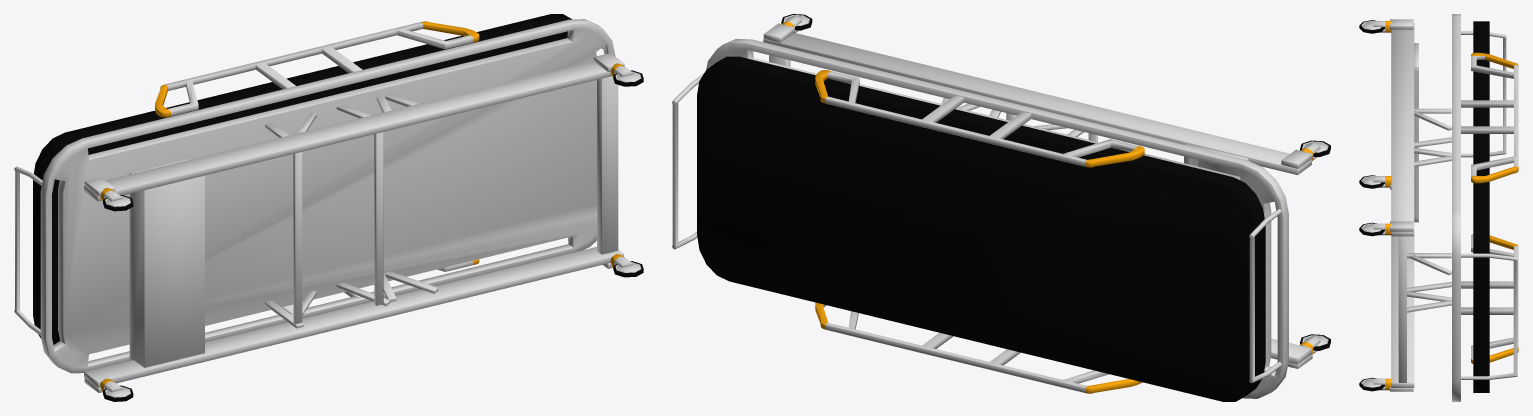
3 renders of one model, left to right at view 1: azimuth 30°, elevation 25°; view 2: azimuth 150°, elevation 25°; view 3: azimuth 270°, elevation 25°, orthographic. The views are drawn at different scales.
Parts seen in each view (by area): view 1: Cube.005; view 2: Cube.005; view 3: Cube.005.
Part boxes in pixels (left/top/right/bottom): Cube.005: left=14, top=14, right=643, bottom=401; Cube.005: left=672, top=14, right=1330, bottom=401; Cube.005: left=1359, top=14, right=1518, bottom=401.
Bounding box in the file's own units: 200 × 77.36 × 59.5.
